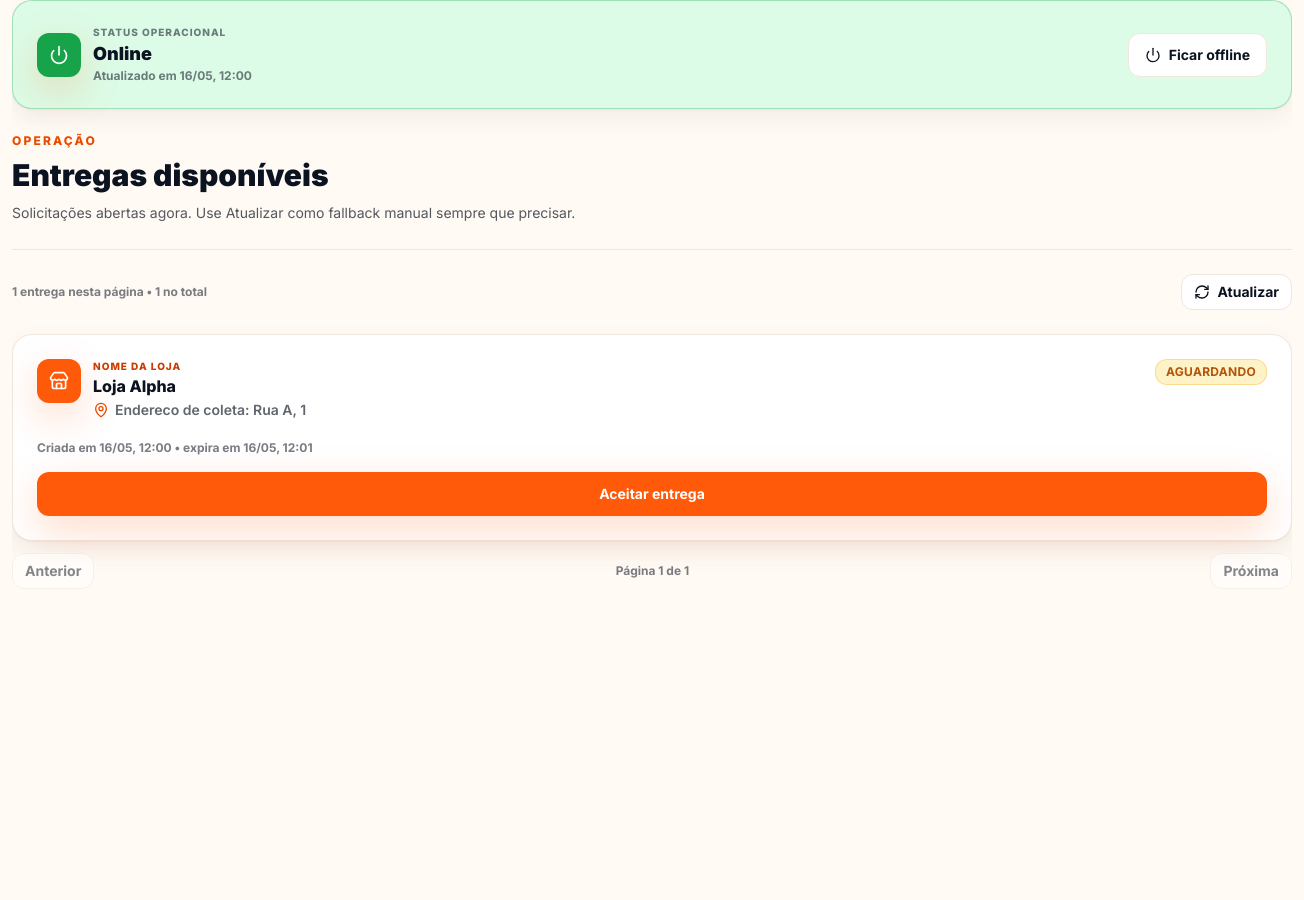
Test case: MotoboyRealFlow › loads the real active delivery after a successful accept
Click the button "Aceitar entrega". click: (652, 494)
box: [37,472,1267,516]
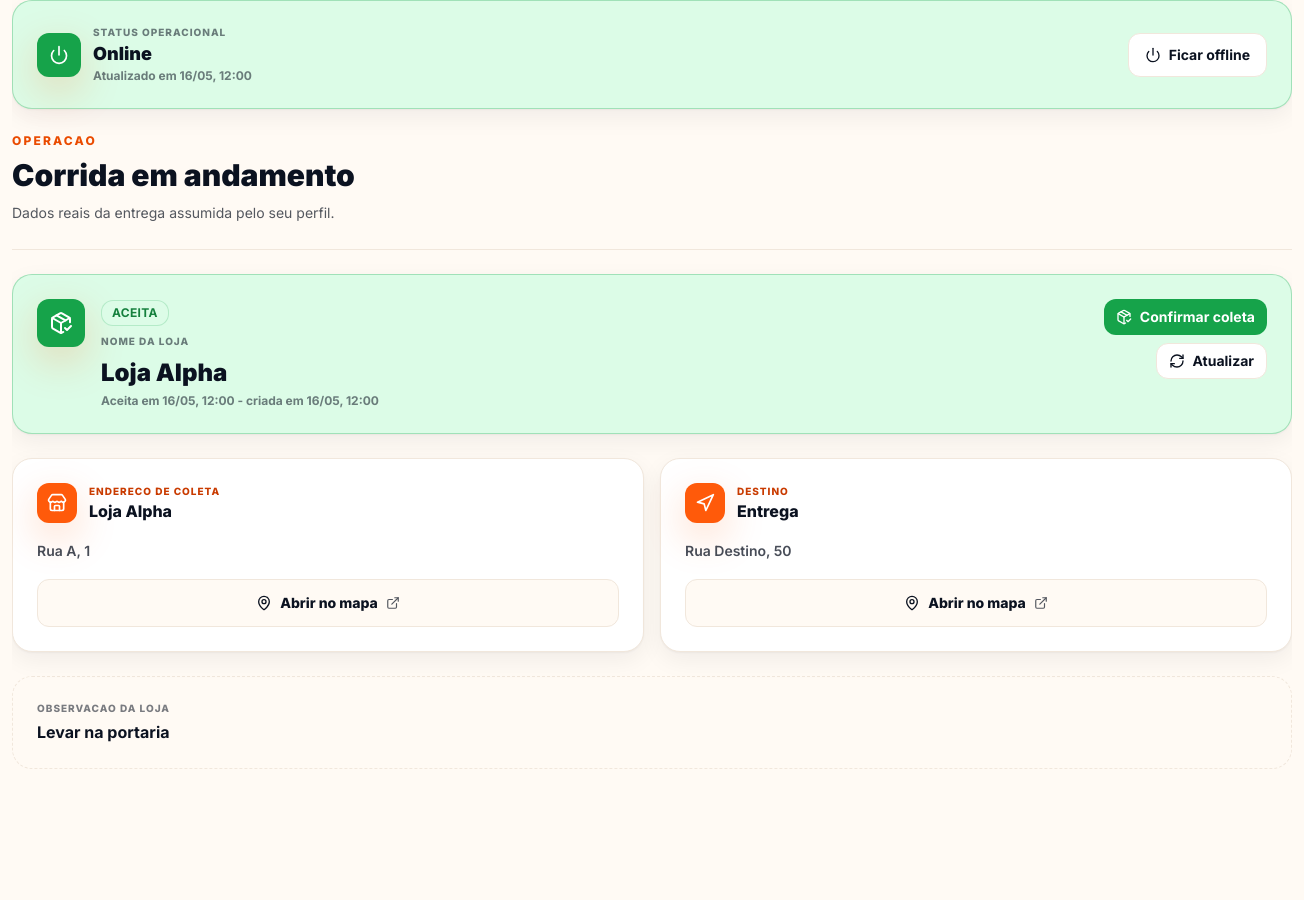
Result: the heading "Corrida em andamento" is shown at [12,157,355,193]
Result: the text "Rua Destino, 50" is shown at [685,542,792,559]
